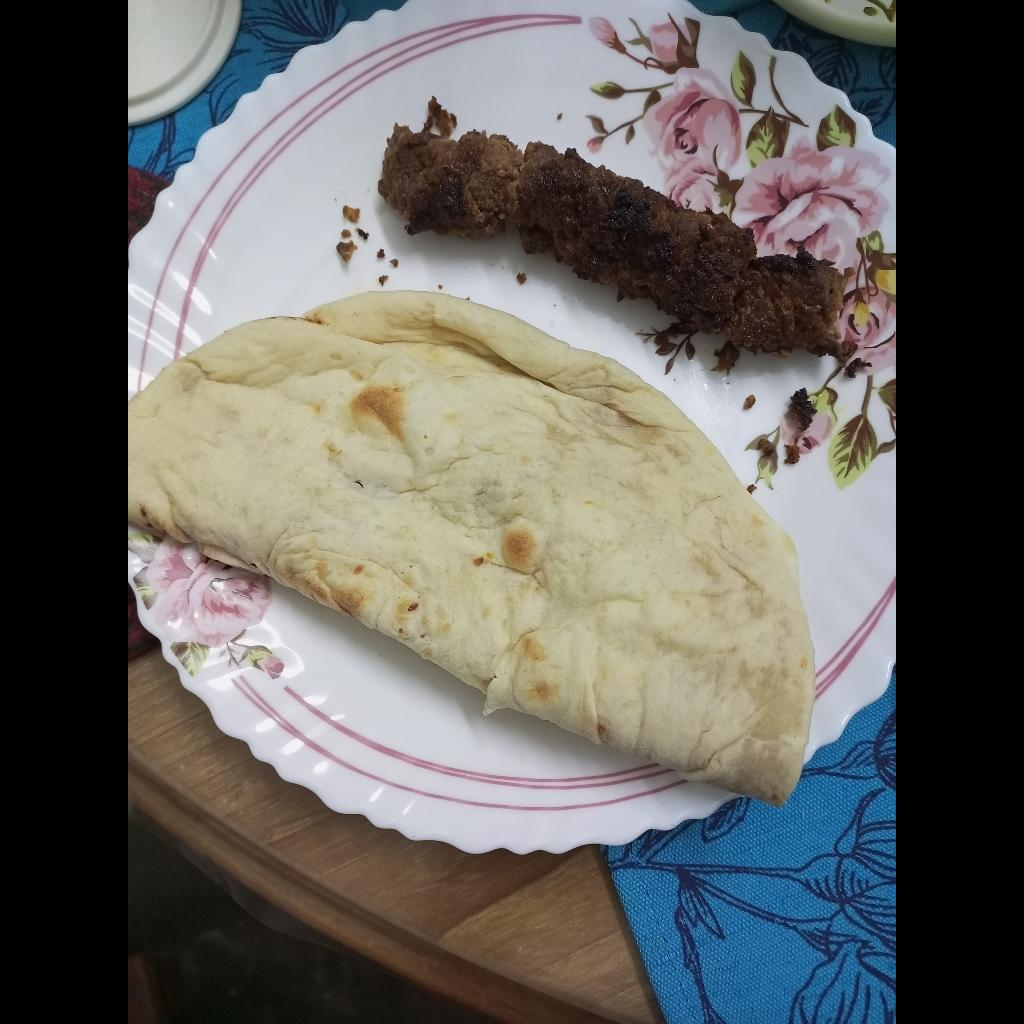beef: (382, 85, 851, 366)
ruti: (128, 289, 820, 811)
